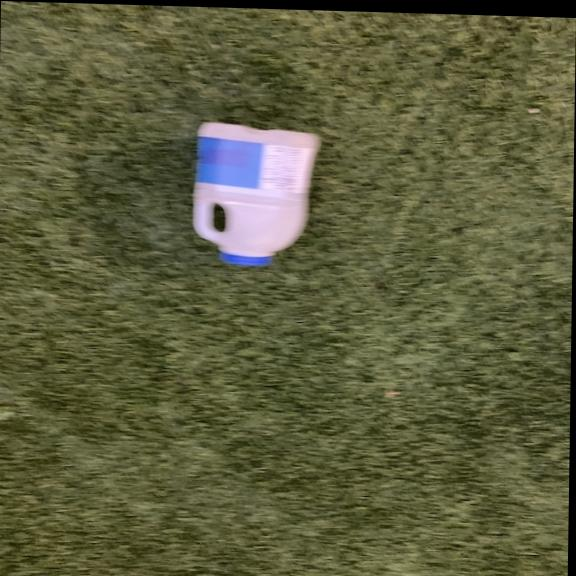Plastik: (184, 112, 320, 270)
